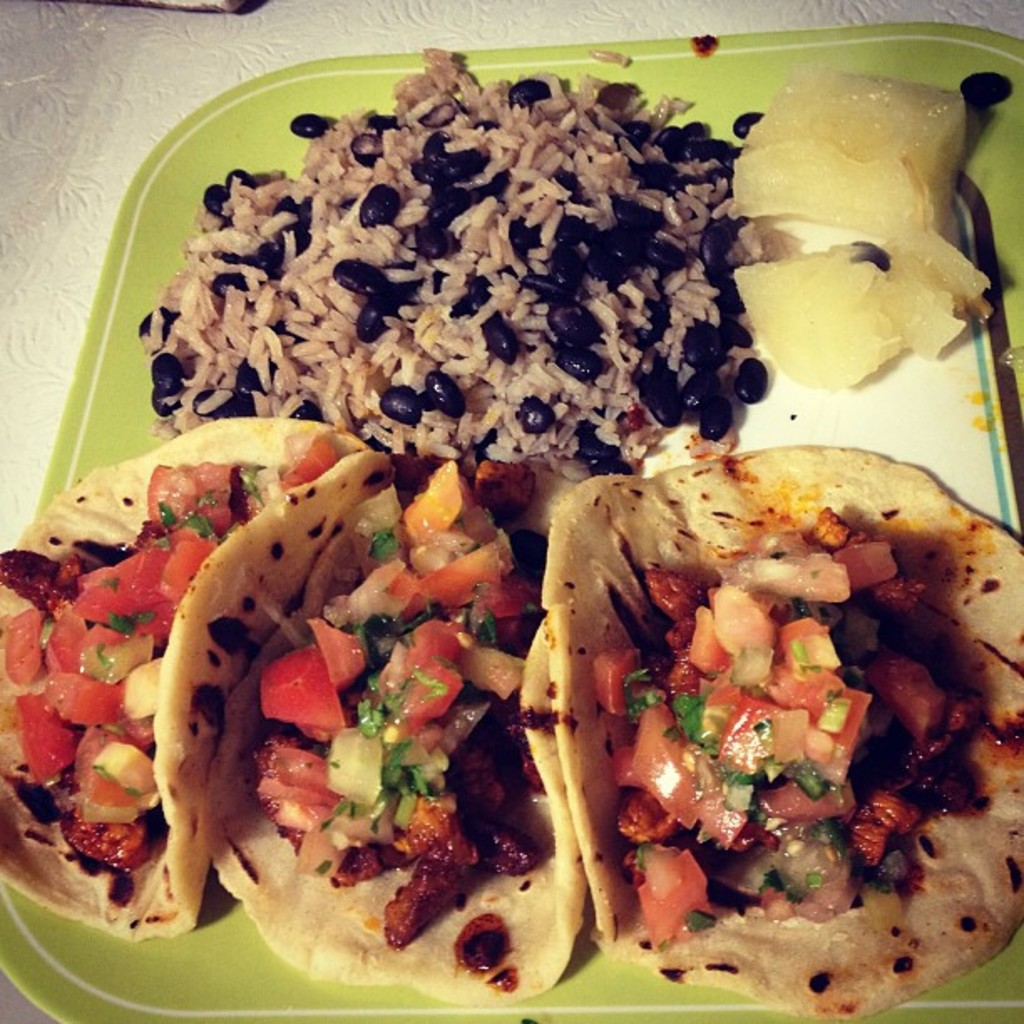taco: (181, 452, 601, 1001), (569, 430, 989, 965), (0, 407, 370, 934)
